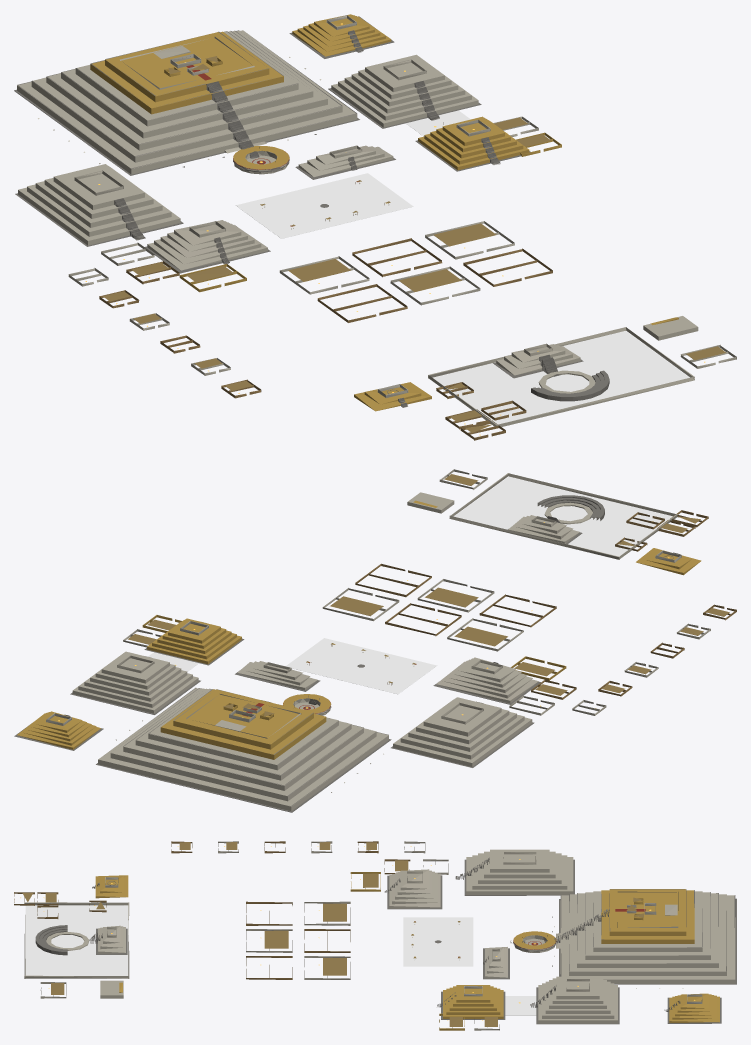
Rendered from caral_city_lod1.glb.
3 renders of one model, top to bottom at view 1: azimuth 30°, elevation 25°; view 2: azimuth 150°, elevation 25°; view 3: azimuth 270°, elevation 25°, orthographic. The views are drawn at different scales.
Parts seen in each view (by area): view 1: GEO-Caral_City_PlasterWhite_LOD1, GEO-Caral_City_PlasterYellow_LOD1, GEO-Caral_City_Plaza_LOD1, GEO-Caral_City_Stone_LOD1, GEO-Caral_City_Thatch_LOD1, GEO-Caral_City_Quincha_LOD1; view 2: GEO-Caral_City_PlasterWhite_LOD1, GEO-Caral_City_PlasterYellow_LOD1, GEO-Caral_City_Plaza_LOD1, GEO-Caral_City_Stone_LOD1, GEO-Caral_City_Thatch_LOD1, GEO-Caral_City_Quincha_LOD1; view 3: GEO-Caral_City_PlasterWhite_LOD1, GEO-Caral_City_Plaza_LOD1, GEO-Caral_City_PlasterYellow_LOD1, GEO-Caral_City_Stone_LOD1, GEO-Caral_City_Thatch_LOD1, GEO-Caral_City_Quincha_LOD1.
Part boxes in pixels (x1,y1,x2,y2): GEO-Caral_City_PlasterWhite_LOD1: (17, 15, 736, 426); GEO-Caral_City_PlasterYellow_LOD1: (90, 14, 678, 411); GEO-Caral_City_Plaza_LOD1: (236, 110, 689, 424); GEO-Caral_City_Stone_LOD1: (14, 16, 609, 407); GEO-Caral_City_Thatch_LOD1: (103, 56, 725, 432); GEO-Caral_City_Quincha_LOD1: (99, 238, 552, 440); GEO-Caral_City_PlasterWhite_LOD1: (46, 469, 710, 811); GEO-Caral_City_PlasterYellow_LOD1: (17, 500, 701, 759); GEO-Caral_City_Plaza_LOD1: (148, 476, 672, 694); GEO-Caral_City_Stone_LOD1: (14, 495, 680, 812); GEO-Caral_City_Thatch_LOD1: (128, 474, 729, 716); GEO-Caral_City_Quincha_LOD1: (355, 510, 736, 699); GEO-Caral_City_PlasterWhite_LOD1: (24, 841, 735, 1030); GEO-Caral_City_Plaza_LOD1: (25, 905, 536, 1015); GEO-Caral_City_PlasterYellow_LOD1: (95, 872, 719, 1030); GEO-Caral_City_Stone_LOD1: (35, 857, 736, 1024); GEO-Caral_City_Thatch_LOD1: (22, 842, 643, 1026); GEO-Caral_City_Quincha_LOD1: (14, 841, 410, 979).
Bounding box in the file's own units: 30.4 × 2.81 × 49.63.
